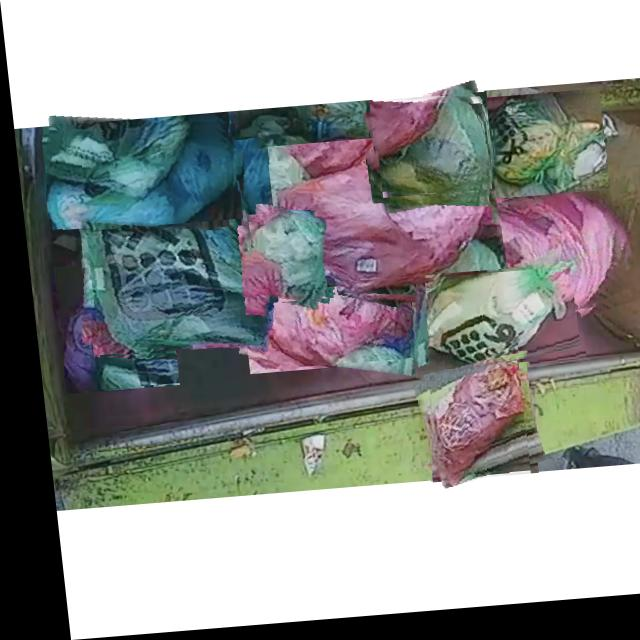general_trashbag: (75, 149, 261, 348), (407, 277, 561, 372), (376, 101, 486, 202), (489, 104, 599, 202), (245, 216, 321, 305)
other_trashbag: (271, 156, 490, 287), (235, 264, 413, 371), (43, 130, 231, 227), (468, 201, 613, 321), (55, 268, 164, 391), (419, 368, 513, 492)
